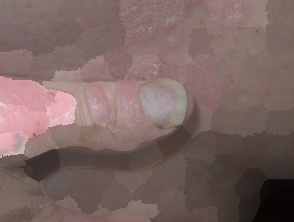Nail_psoriasis: (114, 72, 193, 142)
